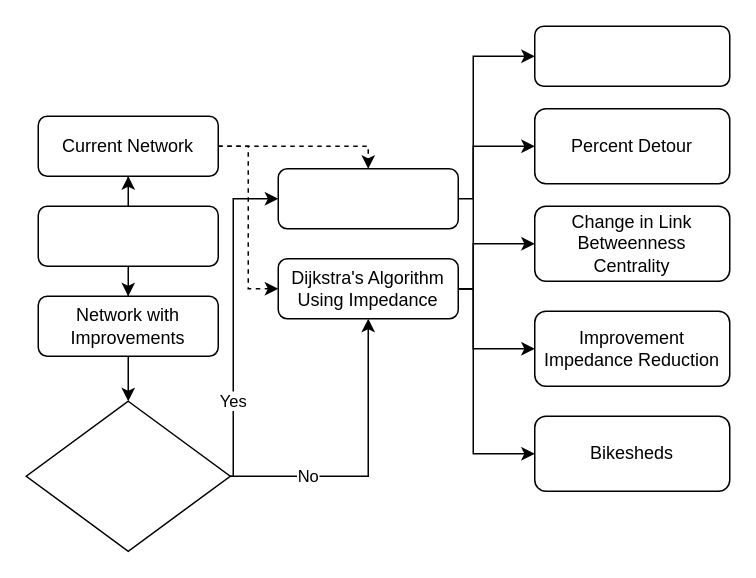
The diagram is 756 pixels wide and 578 high, and some of its shapes have lost their labels. The shapes that lost their labels are listed below. From the top down, each one's box as (x1, y1, x2, y2) in pixels, then its label:
(533, 25, 730, 86): Trip Impedance Reduction
(277, 167, 458, 229): Dijkstra's Algorithm Using Travel Time
(37, 205, 218, 266): OD Pairs
(25, 400, 230, 551): Improvements add connectivity?
